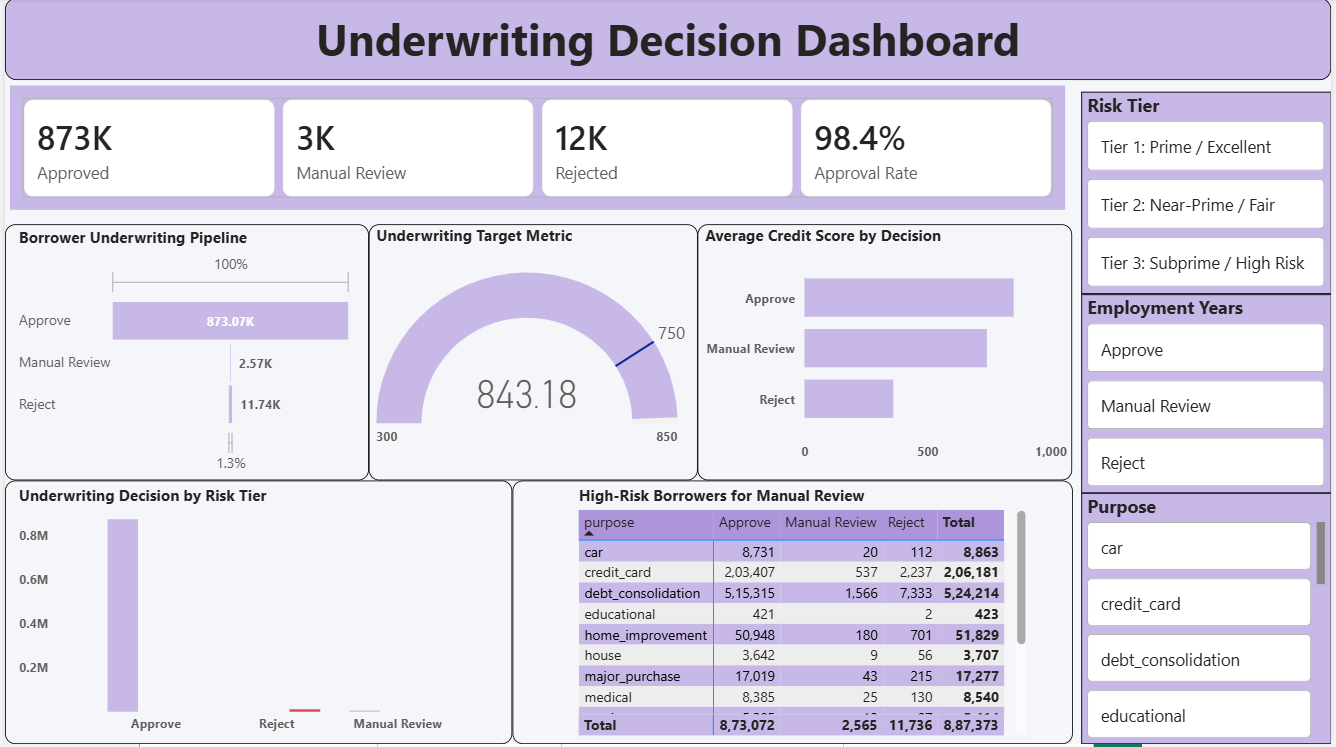

Layout of this report page (visuals, bound fields, positions):
{"tool":"powerbi","page":{"name":"Underwriting Decision Dashboard","canvas":[1280,720],"ordinal":2},"visuals":[{"type":"textbox","box":[0,0,1280.3,79.5],"z":0},{"type":"cardVisual","fields":{"Data":["creditriskdb underwritten_portfolio_scored.Approved","creditriskdb underwritten_portfolio_scored.Manual Review","creditriskdb underwritten_portfolio_scored.Rejected","creditriskdb underwritten_portfolio_scored.Approval Rate"]},"box":[0,79.6,1030.3,130.3],"z":1000},{"type":"advancedSlicerVisual","title":"Risk Tier","fields":{"Values":["creditriskdb underwritten_portfolio_scored.predictive_risk_tier"]},"box":[1038.7,90.5,241.3,195.4],"z":2000},{"type":"advancedSlicerVisual","title":"Purpose","fields":{"Values":["creditriskdb underwritten_portfolio_scored.purpose"]},"box":[1038.7,477.8,241.3,242.5],"z":3000},{"type":"gauge","title":"Underwriting Target Metric","fields":{"Y":["creditriskdb underwritten_portfolio_scored.Avg Credit Score"],"MinValue":["Min(creditriskdb underwritten_portfolio_scored.credit_score)"],"MaxValue":["Max(creditriskdb underwritten_portfolio_scored.credit_score)1"],"TargetValue":["creditriskdb underwritten_portfolio_scored.Target Value"]},"box":[353.5,218.4,313.7,244.9],"z":4000},{"type":"textbox","box":[0,218.4,351.1,247.3],"z":5000},{"type":"funnel","title":"Borrower Underwriting Pipeline","fields":{"Category":["creditriskdb underwritten_portfolio_scored.Decision"],"Y":["Count(creditriskdb underwritten_portfolio_scored.member_id)"]},"box":[8.4,220.8,333,242.5],"z":6000},{"type":"textbox","box":[0,465.7,489.8,254.6],"z":7000},{"type":"textbox","box":[489.8,465.7,540.5,254.6],"z":8000},{"type":"clusteredBarChart","title":"Average Credit Score by Decision","fields":{"Category":["creditriskdb underwritten_portfolio_scored.Decision"],"Y":["creditriskdb underwritten_portfolio_scored.Avg Credit Score"]},"box":[670.8,218.4,359.5,237.7],"z":9000},{"type":"advancedSlicerVisual","title":"Employment Years","fields":{"Values":["creditriskdb underwritten_portfolio_scored.Decision"]},"box":[1038.7,285.9,241.3,191.8],"z":10000},{"type":"textbox","box":[668.4,218.4,361.9,247.3],"z":11000},{"type":"clusteredColumnChart","title":"Underwriting Decision by Risk Tier","fields":{"Category":["creditriskdb underwritten_portfolio_scored.Decision"],"Series":["creditriskdb underwritten_portfolio_scored.Risk Tier"],"Y":["Count(creditriskdb underwritten_portfolio_scored.member_id)"]},"box":[8.4,469.3,469.3,249.7],"z":12000},{"type":"textbox","box":[351.1,218.4,317.3,247.3],"z":13000},{"type":"pivotTable","title":"High-Risk Borrowers for Manual Review","fields":{"Rows":["creditriskdb underwritten_portfolio_scored.purpose"],"Values":["creditriskdb underwritten_portfolio_scored.Total Borrowers"],"Columns":["creditriskdb underwritten_portfolio_scored.Decision"]},"box":[548.9,469.3,441.6,247.3],"z":14000}]}

Visuals, with their boxes in screenshot pixels (x1, y1, x2, y2), scaled from the page's 1280x720 canvas onto the 1336x747 screenshot:
textbox: Rect(0, 0, 1335, 82)
cardVisual - creditriskdb underwritten_portfolio_scored.Approved x creditriskdb underwritten_portfolio_scored.Manual Review: Rect(0, 83, 1075, 218)
"Risk Tier" advancedSlicerVisual: Rect(1084, 94, 1335, 297)
"Purpose" advancedSlicerVisual: Rect(1084, 496, 1335, 746)
"Underwriting Target Metric" gauge: Rect(369, 227, 696, 481)
textbox: Rect(0, 227, 366, 483)
"Borrower Underwriting Pipeline" funnel: Rect(9, 229, 356, 481)
textbox: Rect(0, 483, 511, 746)
textbox: Rect(511, 483, 1075, 746)
"Average Credit Score by Decision" clusteredBarChart: Rect(700, 227, 1075, 473)
"Employment Years" advancedSlicerVisual: Rect(1084, 297, 1335, 496)
textbox: Rect(698, 227, 1075, 483)
"Underwriting Decision by Risk Tier" clusteredColumnChart: Rect(9, 487, 499, 746)
textbox: Rect(366, 227, 698, 483)
"High-Risk Borrowers for Manual Review" pivotTable: Rect(573, 487, 1034, 743)
